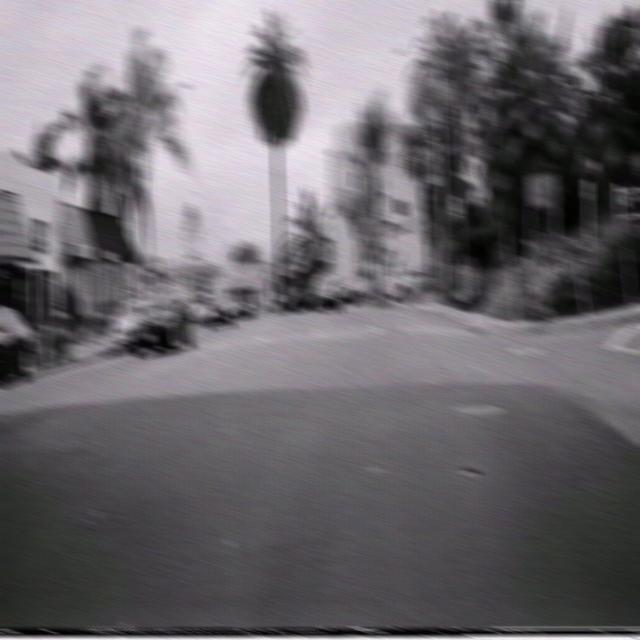pedestrianCrossing: (461, 152, 484, 188)
